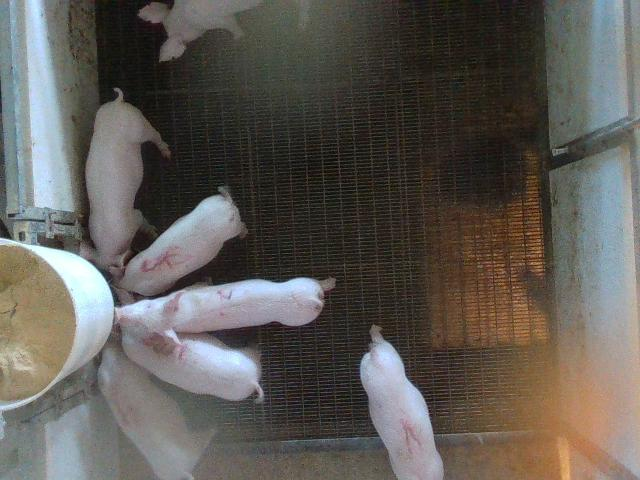pig-1: (360, 325, 444, 479)
pig-3: (122, 327, 264, 402)
pig-4: (99, 335, 214, 478)
pig-5: (110, 188, 248, 304)
